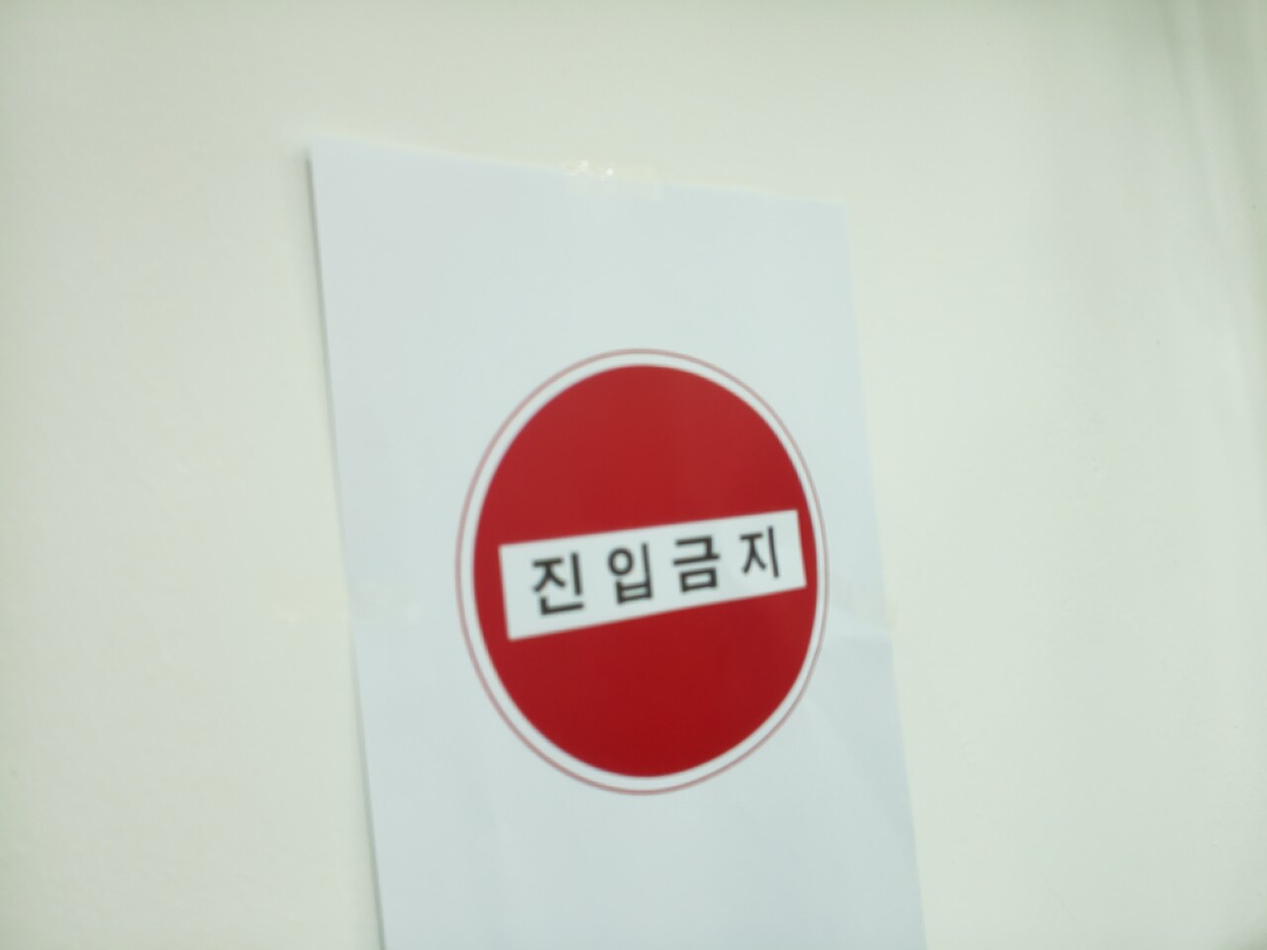do_not_enter: (462, 353, 828, 790)
